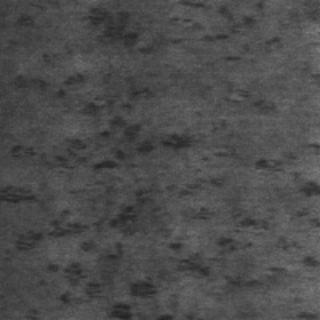rolled pit: (3, 96, 198, 316), (108, 154, 318, 302), (165, 0, 289, 62), (82, 0, 176, 56)
